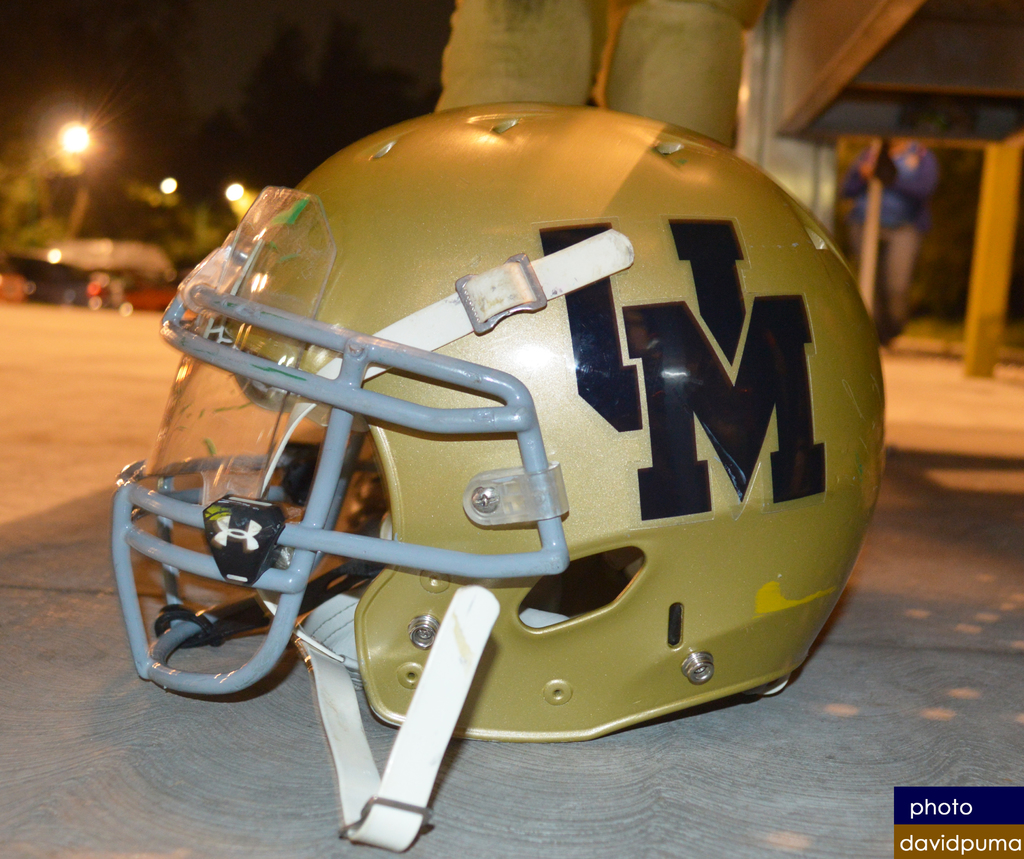person: (835, 134, 940, 346)
